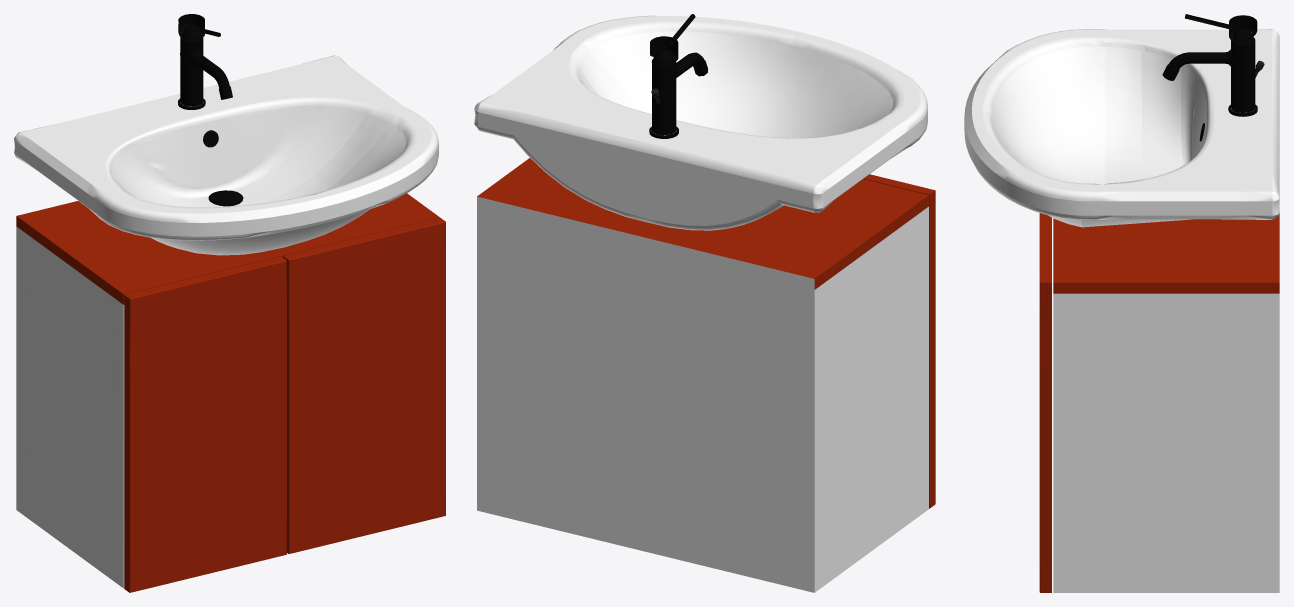
File: Polantis-BASSIN-3D.FBX
The picture shows the model from 3 angles, left to right: view 1: azimuth 30°, elevation 25°; view 2: azimuth 150°, elevation 25°; view 3: azimuth 270°, elevation 25°; orthographic projection. The views are drawn at different scales.
Visible parts, largest first — view 1: Obj_000001; view 2: Obj_000001; view 3: Obj_000001.
Boxes of the visible parts, left/top/right/bottom form: Obj_000001: left=14, top=14, right=445, bottom=592; Obj_000001: left=474, top=14, right=935, bottom=592; Obj_000001: left=964, top=14, right=1279, bottom=592.
Bounding box in the file's own units: 84.56 × 67 × 117.
